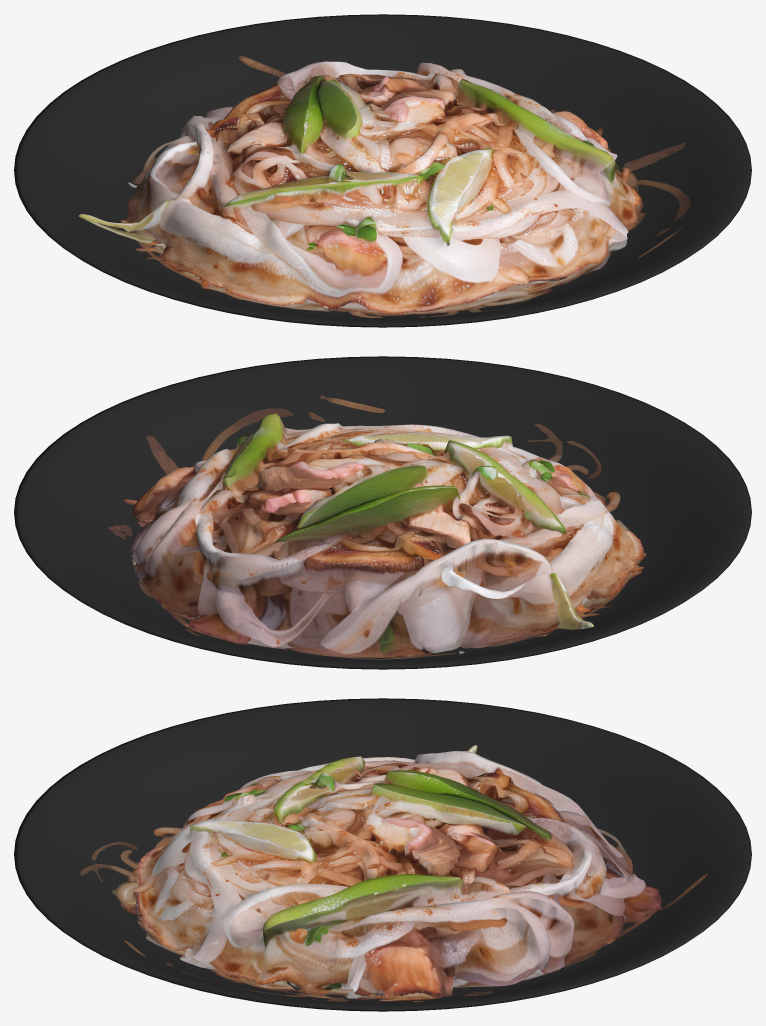
Rendered from pad_thai.glb.
3 views of the same model, one above another, from view 1: azimuth 30°, elevation 25°; view 2: azimuth 150°, elevation 25°; view 3: azimuth 270°, elevation 25° (orthographic).
Parts seen in each view (by area): view 1: Object_2, Object_3, Object_4; view 2: Object_2, Object_3, Object_4; view 3: Object_2, Object_3, Object_4.
Part boxes in pixels (x1,y1,x2,y2): Object_2: (79,61,641,313); Object_3: (14,14,751,327); Object_4: (89,56,690,317); Object_2: (130,413,643,657); Object_3: (14,356,751,669); Object_4: (108,395,646,659); Object_2: (134,745,661,997); Object_3: (14,698,751,1011); Object_4: (80,752,707,1002).
Bounding box in the file's own units: 0.5959 × 0.0997 × 0.5959.
Materials: 3 (2 with a texture image).
